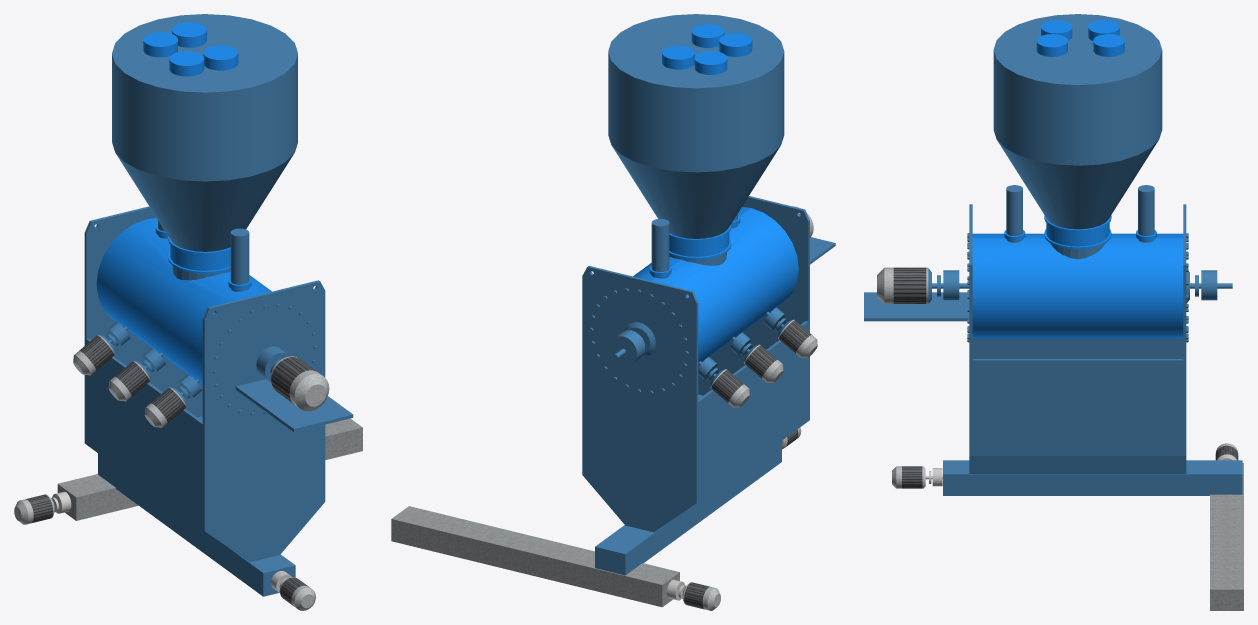
Rendered from 犁刀机.glb.
3 views of the same model, side by side, from view 1: azimuth 30°, elevation 25°; view 2: azimuth 150°, elevation 25°; view 3: azimuth 270°, elevation 25° (orthographic). The views are drawn at different scales.
Visible parts, largest first — view 1: root; view 2: root; view 3: root.
Part boxes in pixels (bbox=[...]): root: bbox=[14, 14, 362, 610]; root: bbox=[391, 14, 835, 610]; root: bbox=[864, 14, 1243, 610].
Bounding box in the file's own units: 3.33 × 4.91 × 3.61.
6 materials, 3 textured.
